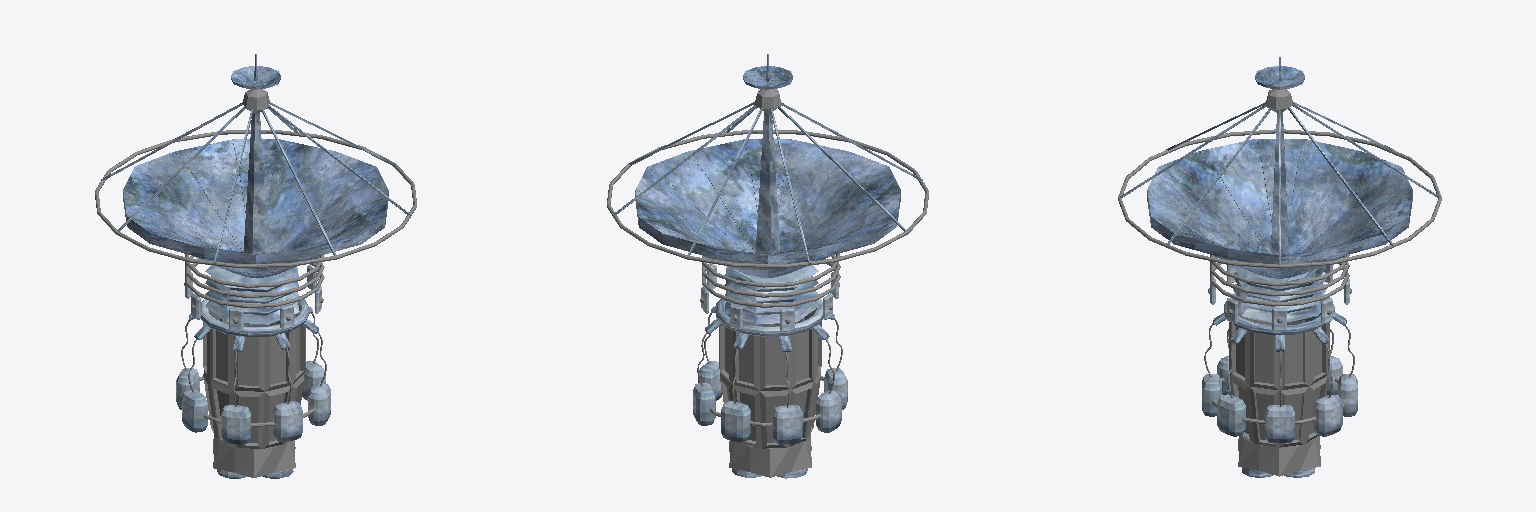
3 views of the same model, side by side, from view 1: azimuth 30°, elevation 25°; view 2: azimuth 150°, elevation 25°; view 3: azimuth 270°, elevation 25° (orthographic).
Visible parts, largest first — view 1: Parabolica, Cylinder001, Mola, Torus004, Pyramid001, Cylinder004, Torus001, ChamferBox008, ChamferBox007, ChamferBox001, Cylinder003, ChamferBox006 (+4 smaller); view 2: Parabolica, Cylinder001, Mola, Torus004, Pyramid001, Cylinder004, Torus001, ChamferBox002, ChamferBox003, ChamferBox001, Cylinder003, ChamferBox004 (+5 smaller); view 3: Parabolica, Cylinder001, Torus004, Mola, Cylinder004, Pyramid001, ChamferBox005, ChamferBox004, ChamferBox006, Cylinder003, Torus001, ChamferBox003 (+4 smaller).
Boxes of the visible parts, <box> form: Parabolica: <box>123,139,388,277</box>; Cylinder001: <box>203,310,305,448</box>; Mola: <box>205,265,299,325</box>; Torus004: <box>95,130,416,267</box>; Pyramid001: <box>244,54,267,253</box>; Cylinder004: <box>213,435,295,477</box>; Torus001: <box>201,296,309,337</box>; ChamferBox008: <box>221,405,250,444</box>; ChamferBox007: <box>273,401,302,441</box>; ChamferBox001: <box>182,390,207,432</box>; Cylinder003: <box>231,66,280,89</box>; ChamferBox006: <box>308,383,330,425</box>; Parabolica: <box>635,139,900,277</box>; Cylinder001: <box>719,310,821,448</box>; Mola: <box>724,265,818,325</box>; Torus004: <box>607,130,928,267</box>; Pyramid001: <box>756,54,779,253</box>; Cylinder004: <box>729,434,811,477</box>; Torus001: <box>716,298,822,336</box>; ChamferBox002: <box>772,405,802,444</box>; ChamferBox003: <box>721,401,750,441</box>; ChamferBox001: <box>816,390,841,432</box>; Cylinder003: <box>743,66,792,89</box>; ChamferBox004: <box>693,383,715,425</box>; Parabolica: <box>1147,139,1412,278</box>; Cylinder001: <box>1229,311,1329,447</box>; Torus004: <box>1118,129,1441,268</box>; Mola: <box>1232,266,1327,322</box>; Cylinder004: <box>1238,436,1320,476</box>; Pyramid001: <box>1271,57,1288,254</box>; ChamferBox005: <box>1265,405,1294,442</box>; ChamferBox004: <box>1314,395,1342,436</box>; ChamferBox006: <box>1217,394,1245,436</box>; Cylinder003: <box>1255,66,1304,89</box>; Torus001: <box>1224,293,1334,335</box>; ChamferBox003: <box>1338,374,1357,416</box>.
Bounding box in the file's own units: 24.21 × 34.52 × 24.21.
Materials: 7 (2 with a texture image).